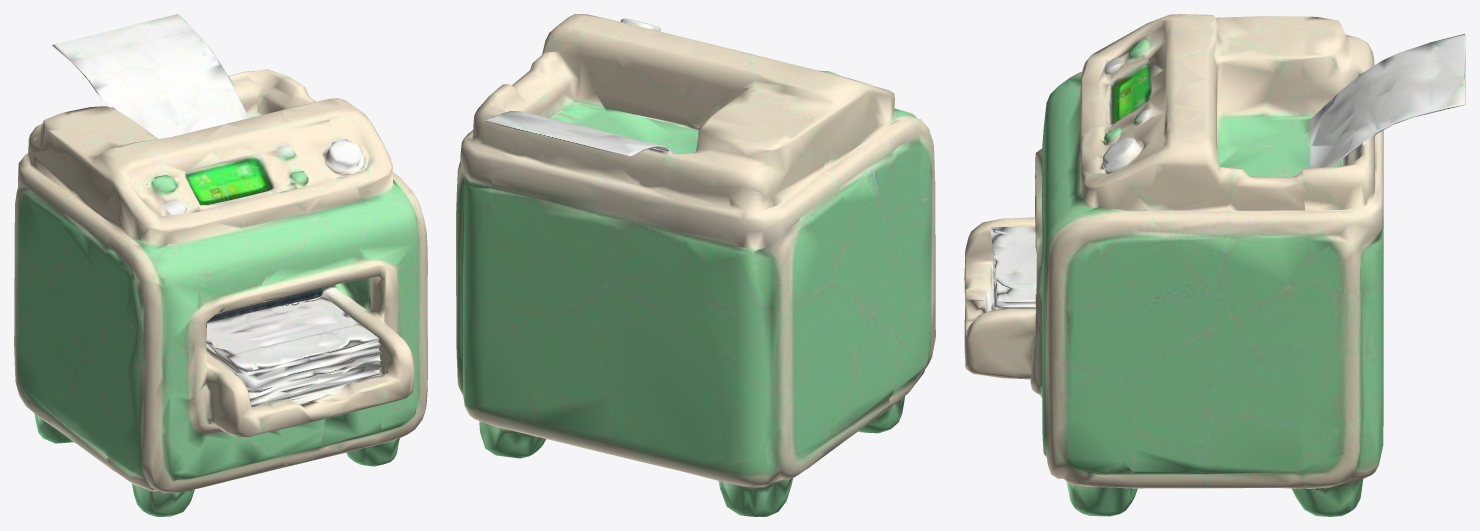
The model's file is printer.glb.
3 renders of one model, left to right at view 1: azimuth 30°, elevation 25°; view 2: azimuth 150°, elevation 25°; view 3: azimuth 270°, elevation 25°, orthographic. The views are drawn at different scales.
Size of the model in its own units: 1.44 by 1.62 by 1.9.
1 material, 1 textured.
